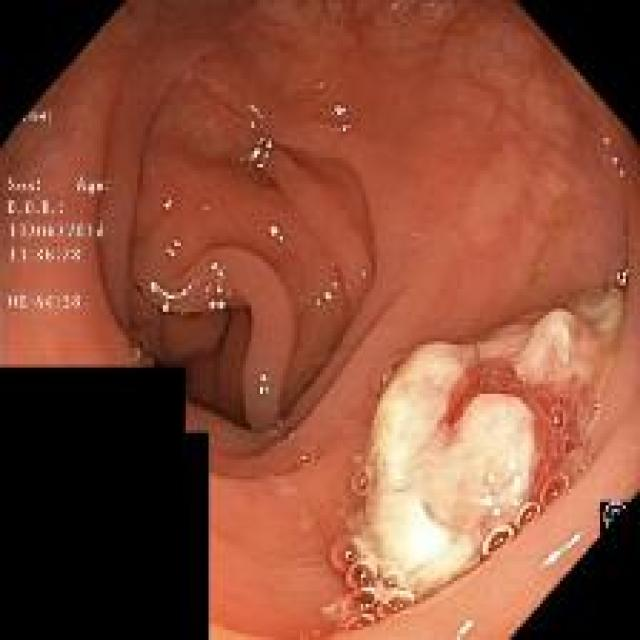Polyps: (324, 293, 622, 632)
